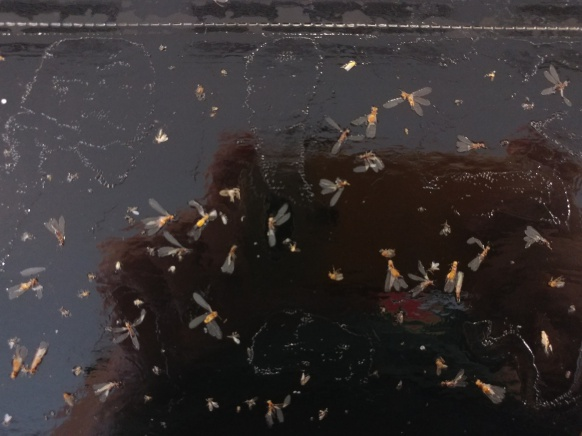flying termite: (184, 285, 227, 343), (381, 81, 431, 119), (106, 310, 148, 351), (539, 64, 574, 110), (325, 116, 366, 155), (520, 221, 557, 257), (408, 256, 434, 306), (185, 198, 215, 240), (315, 174, 351, 205), (43, 211, 71, 249), (380, 259, 408, 296), (268, 203, 290, 250), (467, 234, 492, 274), (477, 374, 508, 404), (453, 135, 493, 158), (31, 338, 49, 372)
